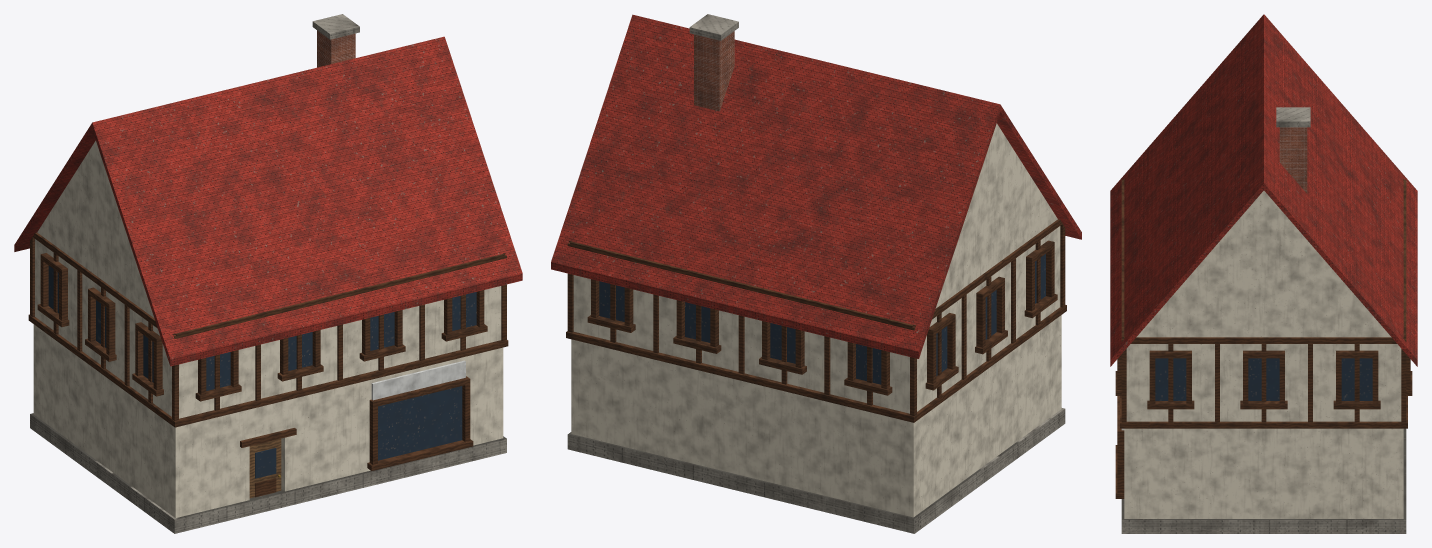
The model's file is Bld_Cottage_Red.fbx.
3 views of the same model, side by side, from view 1: azimuth 30°, elevation 25°; view 2: azimuth 150°, elevation 25°; view 3: azimuth 270°, elevation 25° (orthographic). The views are drawn at different scales.
Visible parts, largest first — view 1: Roof, Walls_Room, Windows_Upper, ShopFront, HalfTimber, Plinth, FloorBand, Chimney, Door_Cottage_Red; view 2: Roof, Walls_Room, Windows_Upper, HalfTimber, Plinth, FloorBand, Chimney; view 3: Roof, Walls_Room, Windows_Upper, HalfTimber, Plinth, FloorBand, Chimney, ShopFront.
Part boxes in pixels (x1,y1,x2,y2): Roof: [14, 36, 522, 366]; Walls_Room: [33, 239, 503, 518]; Windows_Upper: [37, 253, 487, 401]; ShopFront: [240, 360, 473, 470]; HalfTimber: [30, 232, 506, 420]; Plinth: [30, 413, 506, 533]; FloorBand: [28, 314, 508, 427]; Chimney: [312, 14, 359, 67]; Door_Cottage_Red: [249, 438, 281, 498]; Roof: [551, 14, 1081, 358]; Walls_Room: [571, 226, 1061, 517]; Windows_Upper: [587, 240, 1057, 395]; HalfTimber: [567, 219, 1065, 415]; Plinth: [567, 408, 1065, 533]; FloorBand: [566, 305, 1066, 422]; Chimney: [689, 14, 738, 111]; Roof: [1110, 14, 1417, 366]; Walls_Room: [1124, 344, 1403, 518]; Windows_Upper: [1115, 350, 1412, 409]; HalfTimber: [1121, 178, 1406, 422]; Plinth: [1121, 428, 1406, 533]; FloorBand: [1120, 396, 1407, 428]; Chimney: [1276, 107, 1310, 193]; ShopFront: [1115, 396, 1124, 498].
Size of the model in its own units: 12.9 by 13.48 by 9.9.
